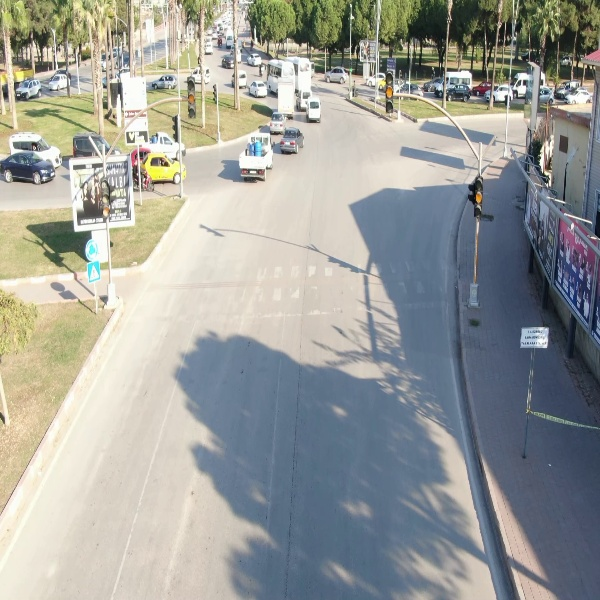car: (1, 150, 55, 185), (140, 151, 188, 185), (13, 77, 46, 104), (281, 126, 306, 157), (483, 82, 515, 106), (322, 67, 350, 87), (190, 65, 212, 90), (442, 84, 472, 102), (246, 78, 270, 100), (47, 72, 72, 91), (229, 71, 250, 92), (153, 73, 177, 91), (306, 99, 322, 124), (267, 112, 288, 130), (219, 56, 238, 70), (247, 51, 264, 66)
